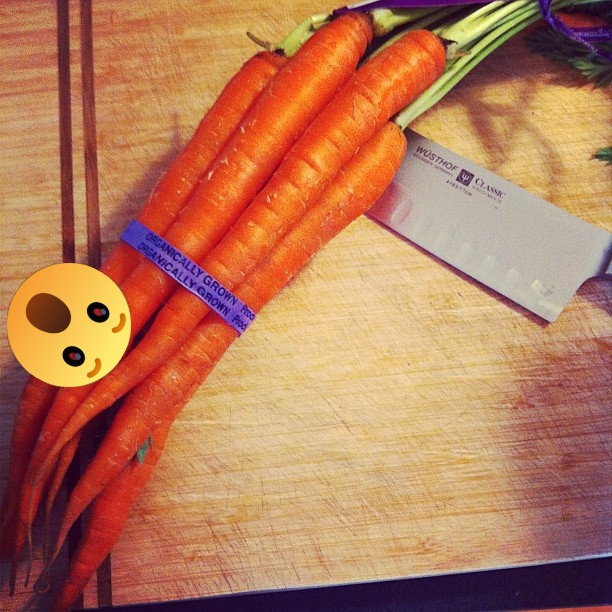wow: (7, 263, 131, 387)
